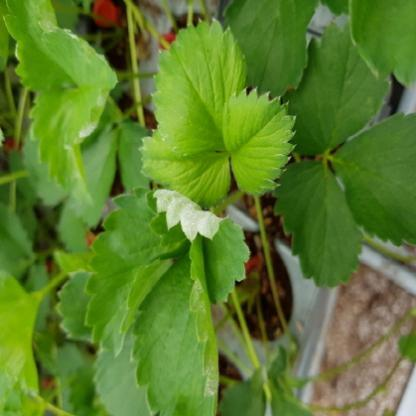Strawberry_Powdery_Mildew_Leaf: (130, 233, 220, 416), (144, 188, 250, 306), (37, 19, 118, 151)
